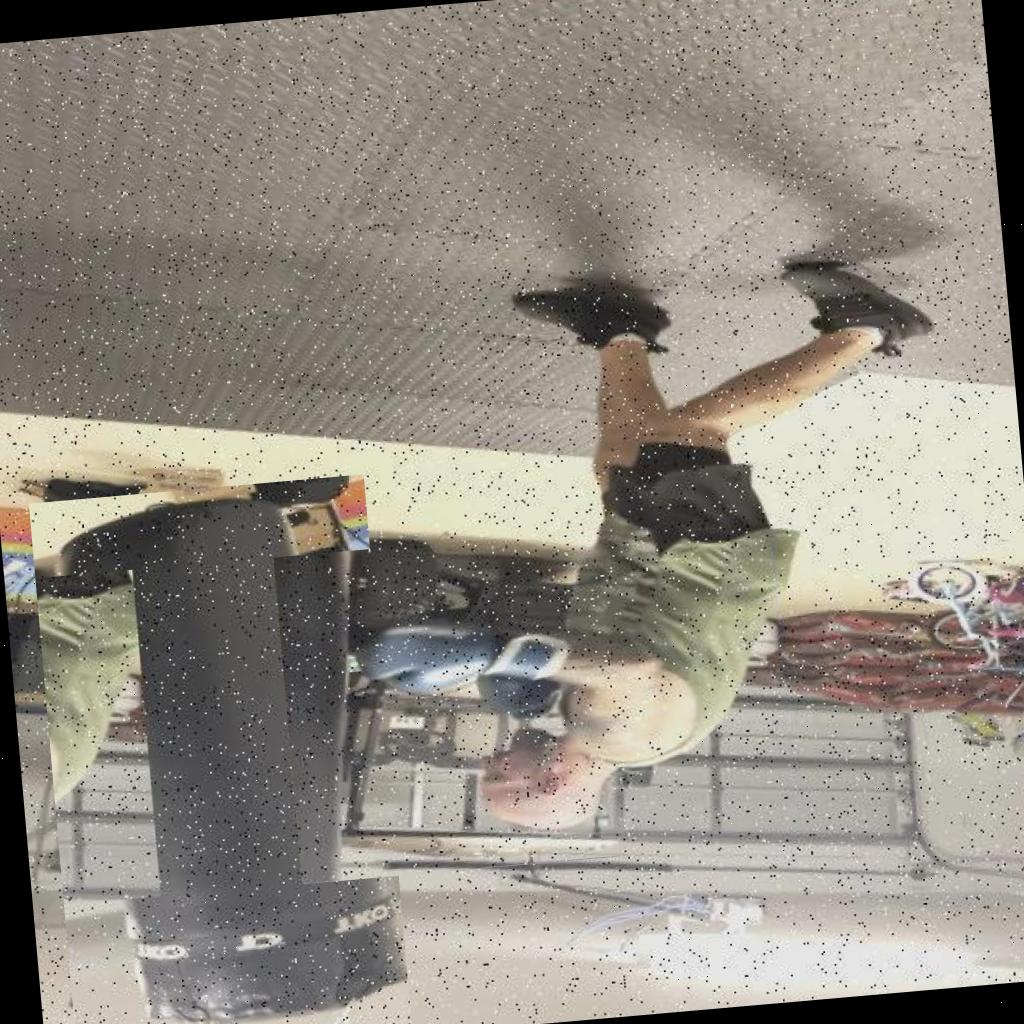bag: (28, 474, 411, 1024)
hook: (273, 514, 798, 884)
